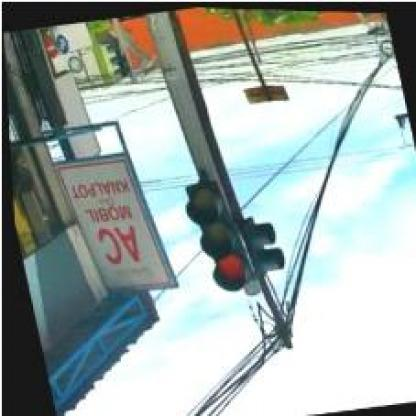red: (178, 178, 254, 295)
